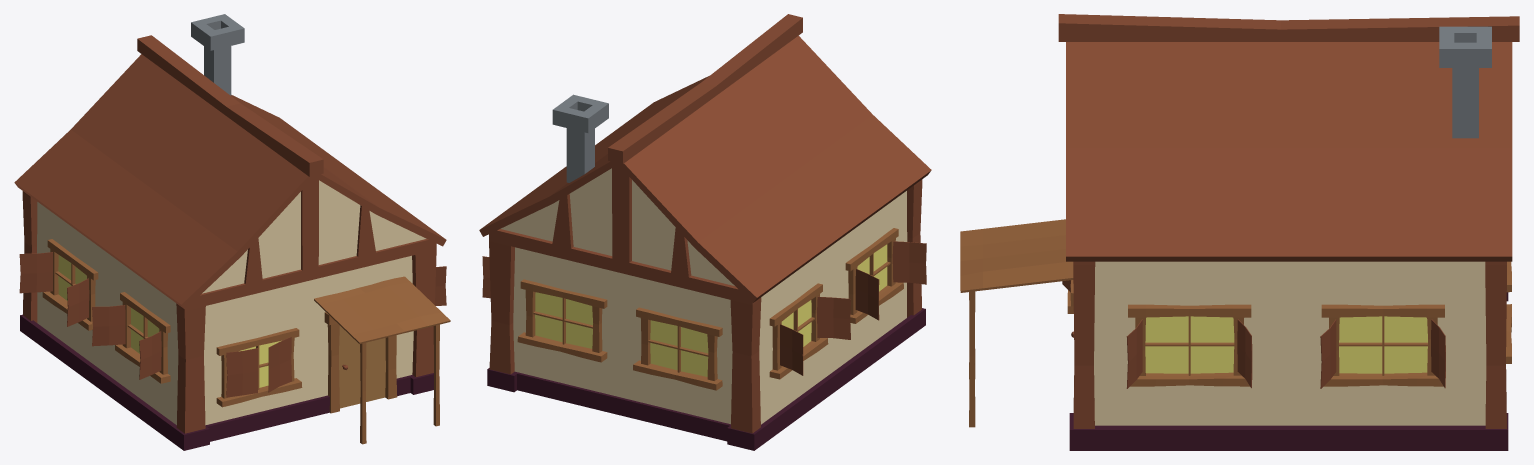
File: House_02.fbx
3 views of the same model, side by side, from view 1: azimuth 30°, elevation 25°; view 2: azimuth 150°, elevation 25°; view 3: azimuth 270°, elevation 25° (orthographic). The views are drawn at different scales.
Visible parts, largest first — view 1: House_02; view 2: House_02; view 3: House_02.
Part boxes in pixels (x1=…): House_02: x1=14, y1=14, x2=450, y2=450; House_02: x1=479, y1=14, x2=931, y2=450; House_02: x1=960, y1=14, x2=1519, y2=450.
Size of the model in its own units: 746 by 633 by 877.
